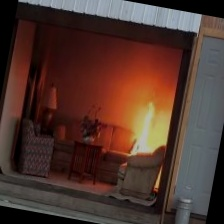fire: (127, 94, 172, 156)
